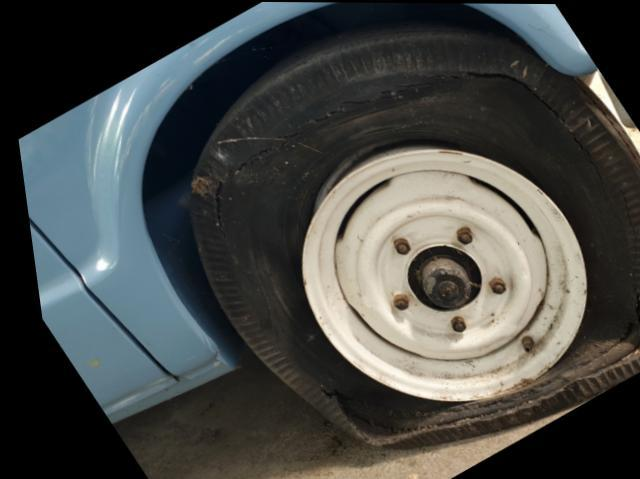tire flat: (186, 3, 640, 452)
